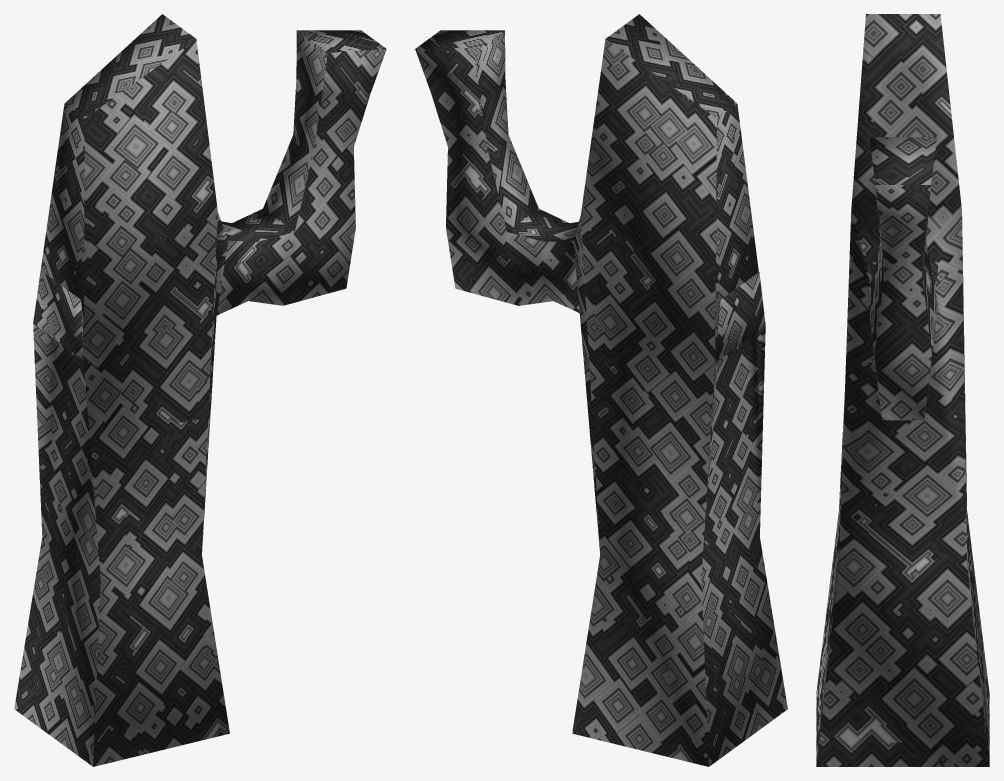
File: Cactus3.fbx
The picture shows the model from 3 angles, left to right: view 1: azimuth 30°, elevation 25°; view 2: azimuth 150°, elevation 25°; view 3: azimuth 270°, elevation 25°; orthographic projection. The views are drawn at different scales.
Visible parts, largest first — view 1: Cube.002; view 2: Cube.002; view 3: Cube.002.
Boxes of the visible parts, bbox=[...] form: Cube.002: bbox=[14, 14, 386, 766]; Cube.002: bbox=[415, 14, 787, 766]; Cube.002: bbox=[816, 14, 989, 766].
Size of the model in its own units: 90.52 by 184 by 38.63.
Materials: 1 (1 with a texture image).
